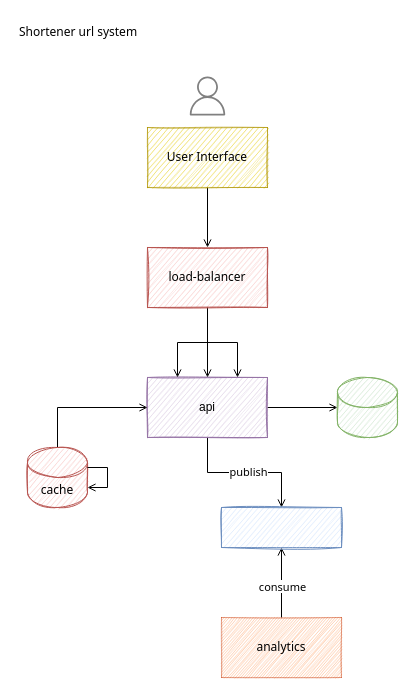
The diagram is 415 pixels wide and 695 high, and some of its shapes have lost their labels. The shapes that lost their labels are listed below. From the top down, each one's centre as x and y in pixels, then its label:
At point (367, 407): "DB".
At point (281, 527): "queue-broker".
